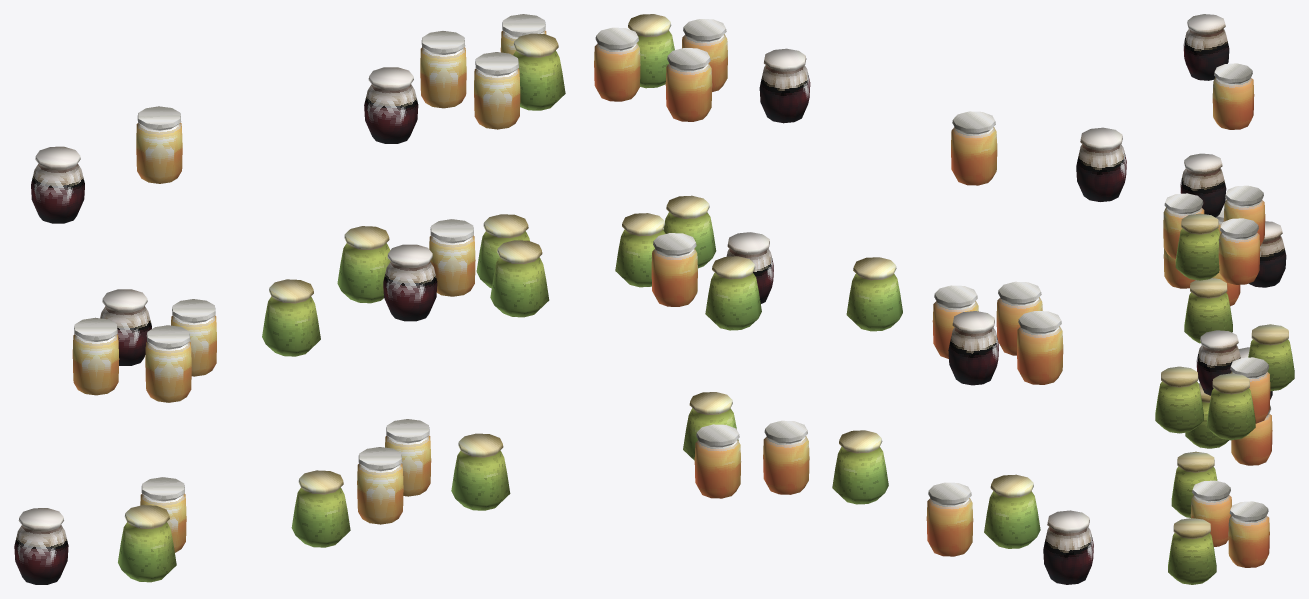
Rendered from ClosetInside.gltf.
3 renders of one model, left to right at view 1: azimuth 30°, elevation 25°; view 2: azimuth 150°, elevation 25°; view 3: azimuth 270°, elevation 25°, orthographic. The views are drawn at different scales.
Visible parts, largest first — view 1: ClosetInside.001, ClosetInside, ClosetInside.006; view 2: ClosetInside.001, ClosetInside.006, ClosetInside; view 3: ClosetInside.001, ClosetInside.
Part boxes in pixels (box(x1,y1,x2,y2)): ClosetInside.001: box(72, 14, 565, 582); ClosetInside: box(31, 146, 84, 223); ClosetInside.006: box(14, 508, 68, 584); ClosetInside.001: box(594, 14, 1063, 556); ClosetInside.006: box(1043, 510, 1093, 584); ClosetInside: box(1076, 127, 1126, 201); ClosetInside.001: box(1155, 63, 1294, 584); ClosetInside: box(1183, 14, 1229, 80).
Size of the model in its own units: 1.5 by 1.2 by 0.3979.
Materials: 1 (1 with a texture image).
